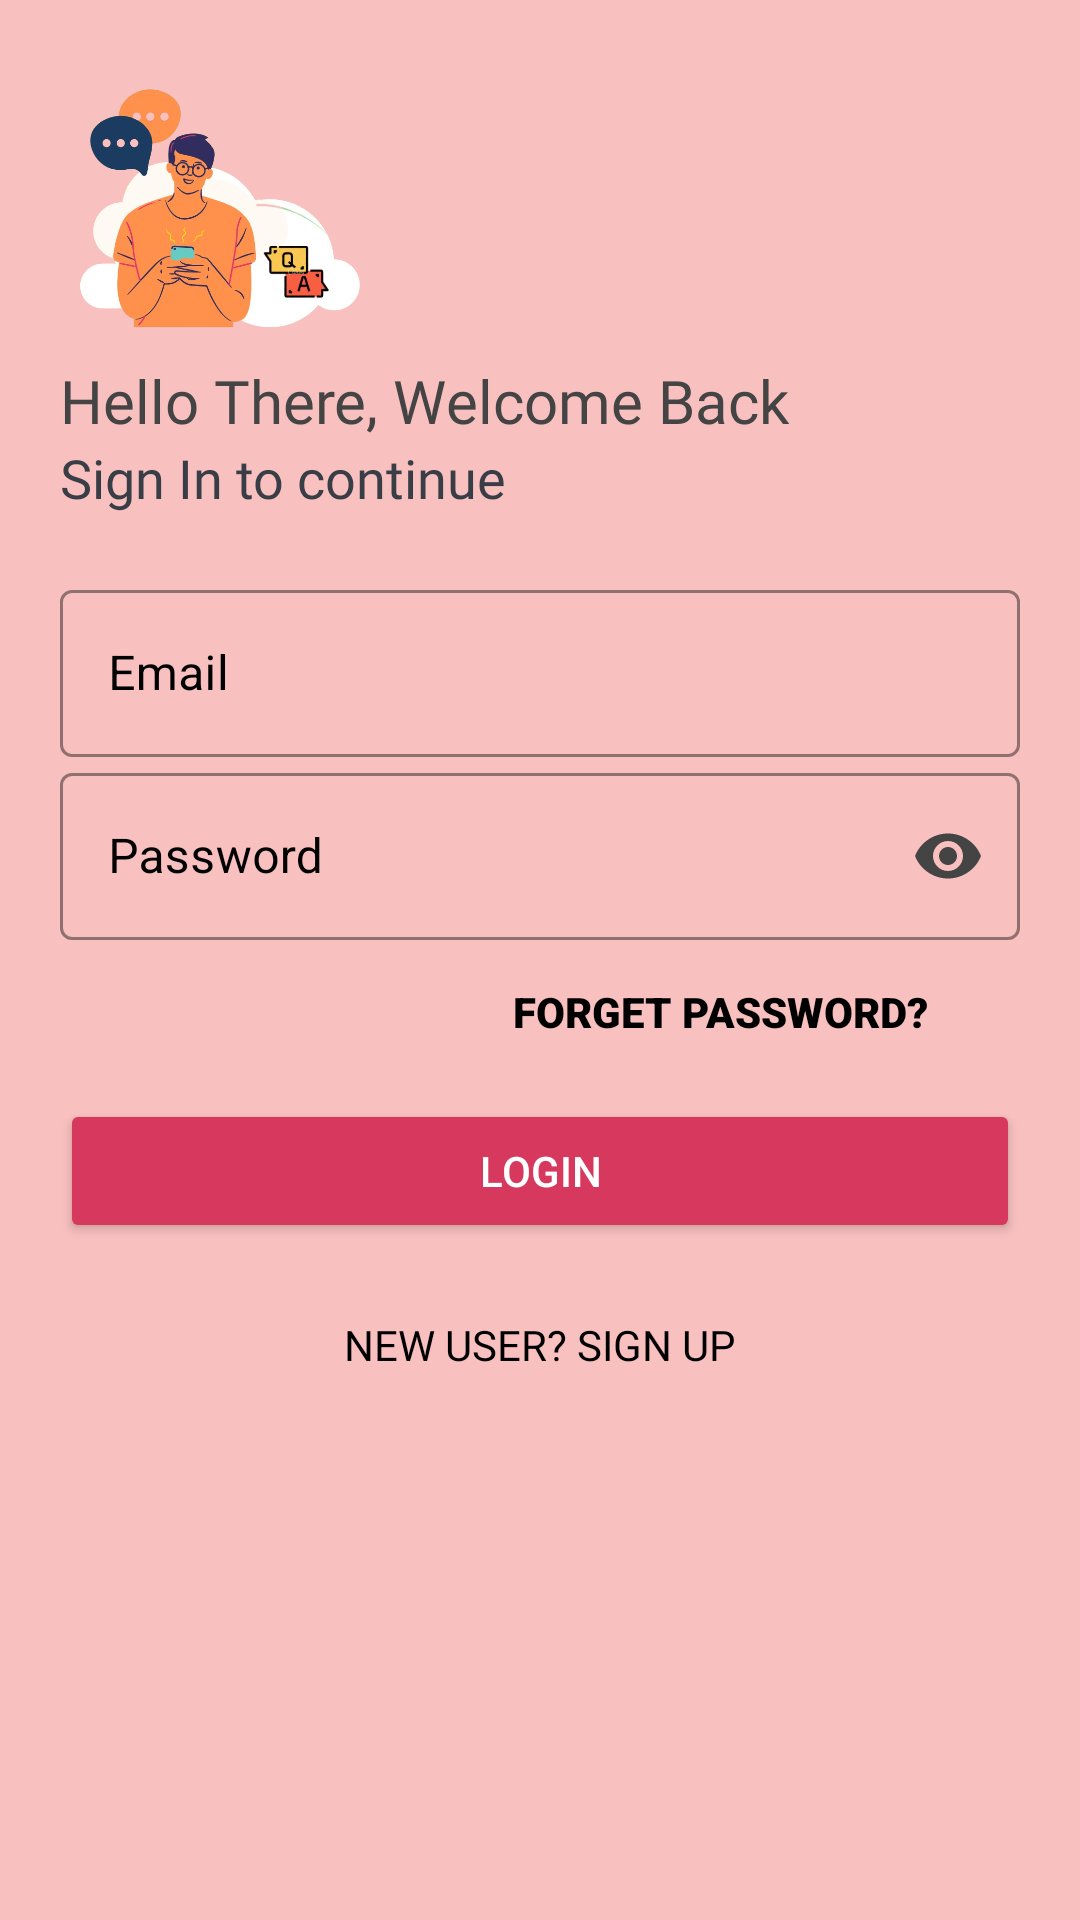

Point at icon controls on the screen. Image size 1080x1920, points as (x=x, y=y).
boy: (x=220, y=208)
